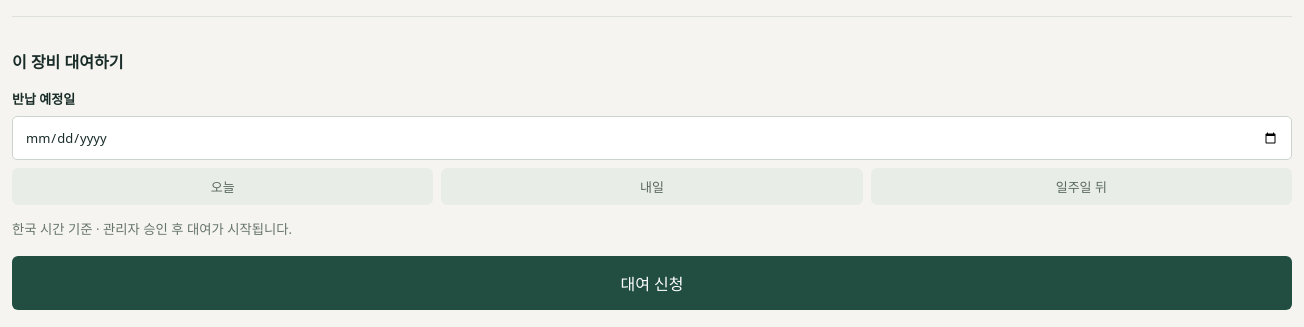
Test: a browser outside Korea still gets the Korean today
This screenshot has width=1304, height=327.
Click the button "오늘".
click(223, 186)  # box [12,168,433,205]
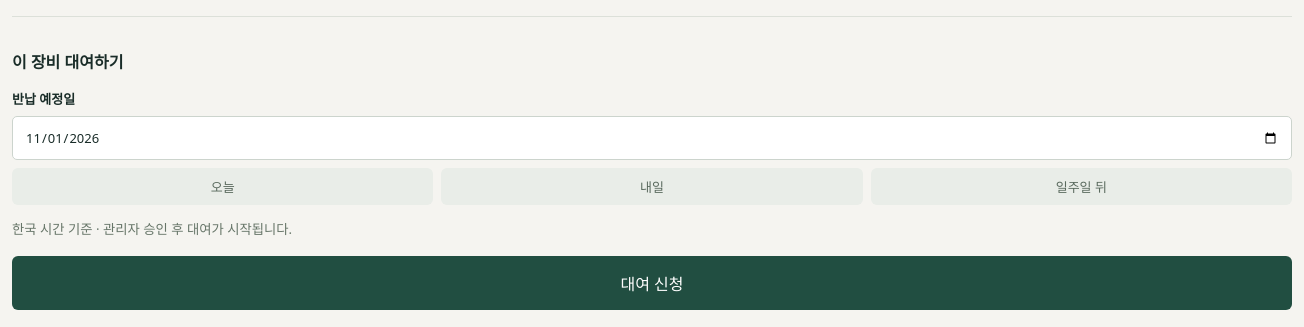
Check: the date field labelled "반납 예정일" holds "2026-11-01", box [12,116,1292,160]
Click the button "일주일 뒤".
click(1081, 186)  # box [871,168,1292,205]
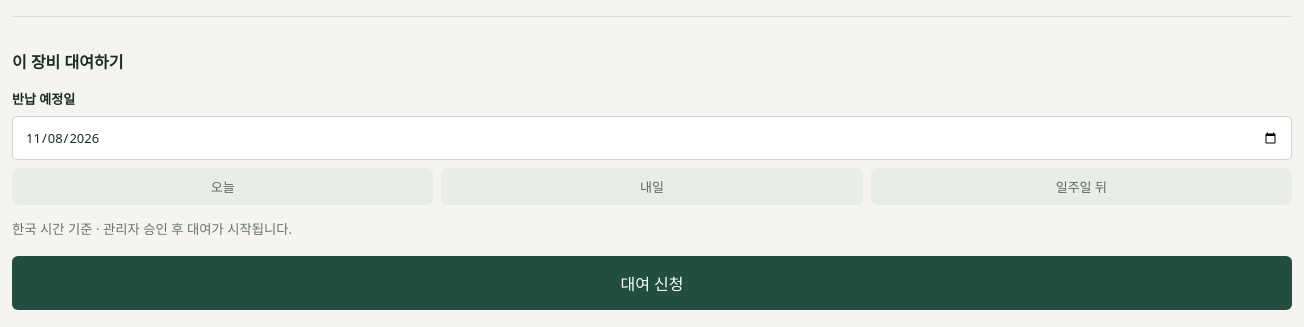
Check: the date field labelled "반납 예정일" holds "2026-11-08", box [12,116,1292,160]
